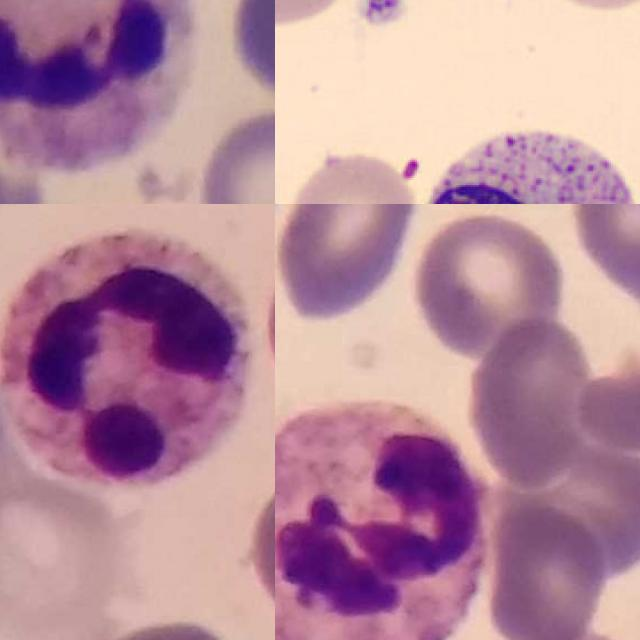Monocyte: (402, 112, 640, 204)
Neutrophil: (0, 227, 250, 491), (275, 399, 487, 640), (0, 0, 194, 170)
Platelets: (356, 0, 406, 31)
RBC: (282, 146, 426, 204)
